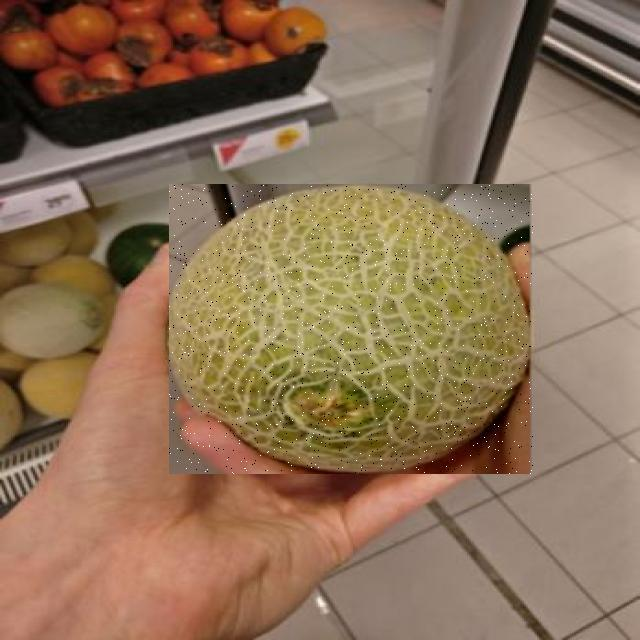Cantaloupe: (170, 184, 534, 474)
